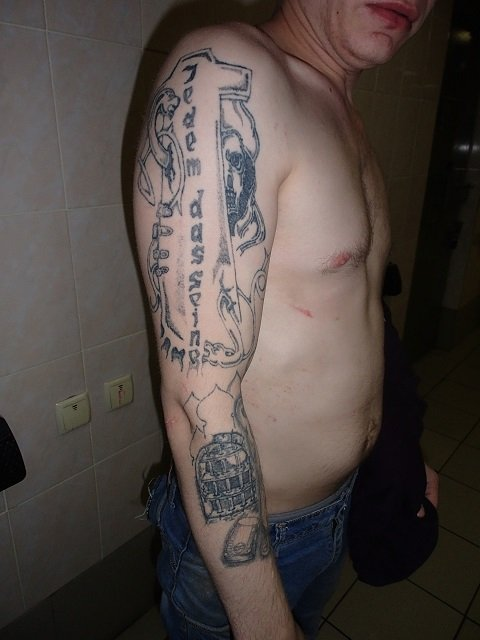tatu7_zmeya: (150, 81, 188, 179)
